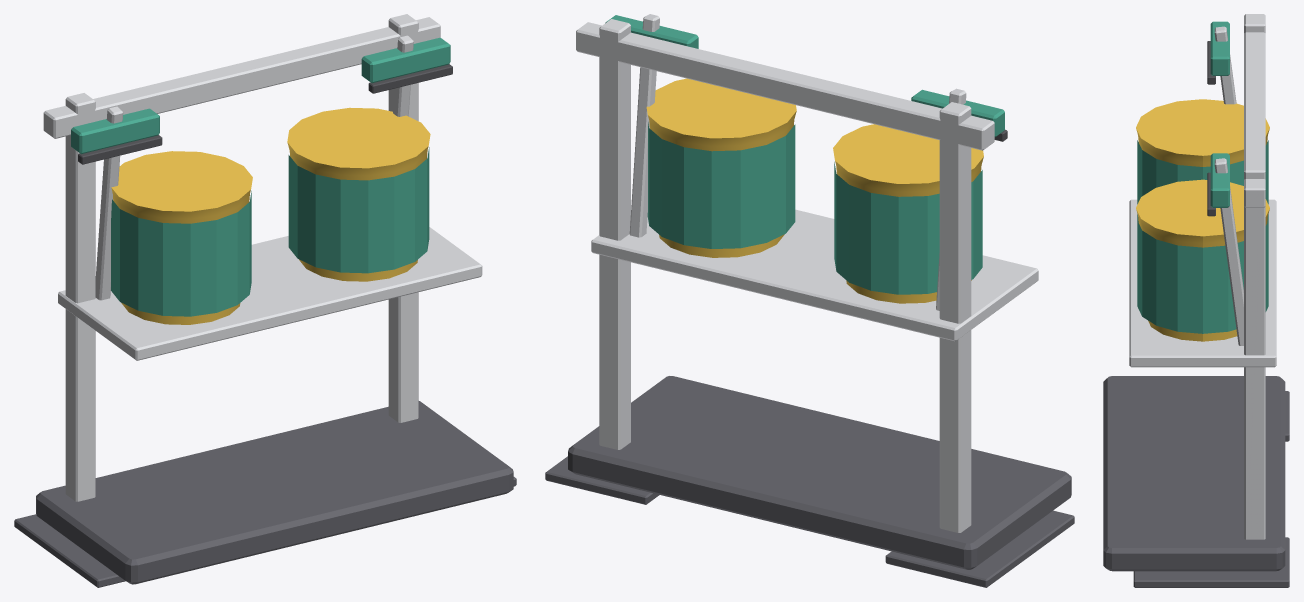
The model's file is petrol-station-and-forecourt-shop-screen-wash-bucket-s-1b306da2__33951.glb.
3 renders of one model, left to right at view 1: azimuth 30°, elevation 25°; view 2: azimuth 150°, elevation 25°; view 3: azimuth 270°, elevation 25°, orthographic. The views are drawn at different scales.
Visible parts, largest first — view 1: screen-wash-bucket-stand; view 2: screen-wash-bucket-stand; view 3: screen-wash-bucket-stand.
Part boxes in pixels (x1=…): screen-wash-bucket-stand: x1=14, y1=14, x2=516, y2=587; screen-wash-bucket-stand: x1=545, y1=14, x2=1074, y2=587; screen-wash-bucket-stand: x1=1103, y1=14, x2=1289, y2=587.
Bounding box in the file's own units: 1.04 × 1.02 × 0.43.
